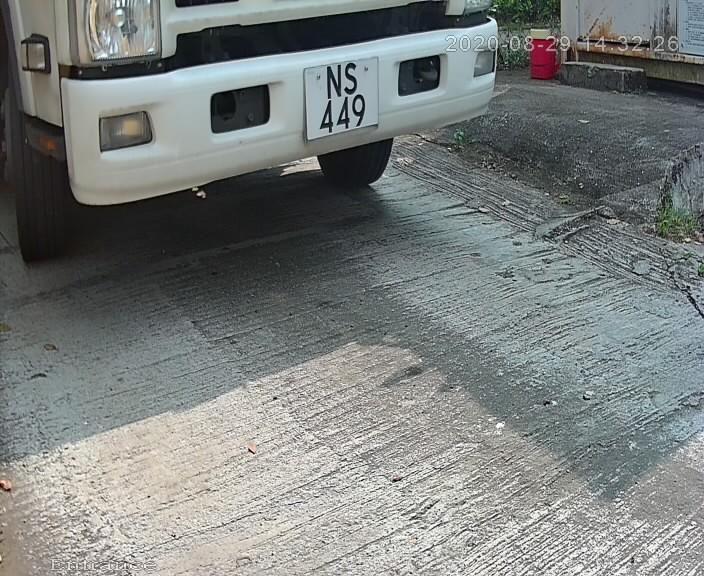License Plate: (274, 34, 390, 163)
